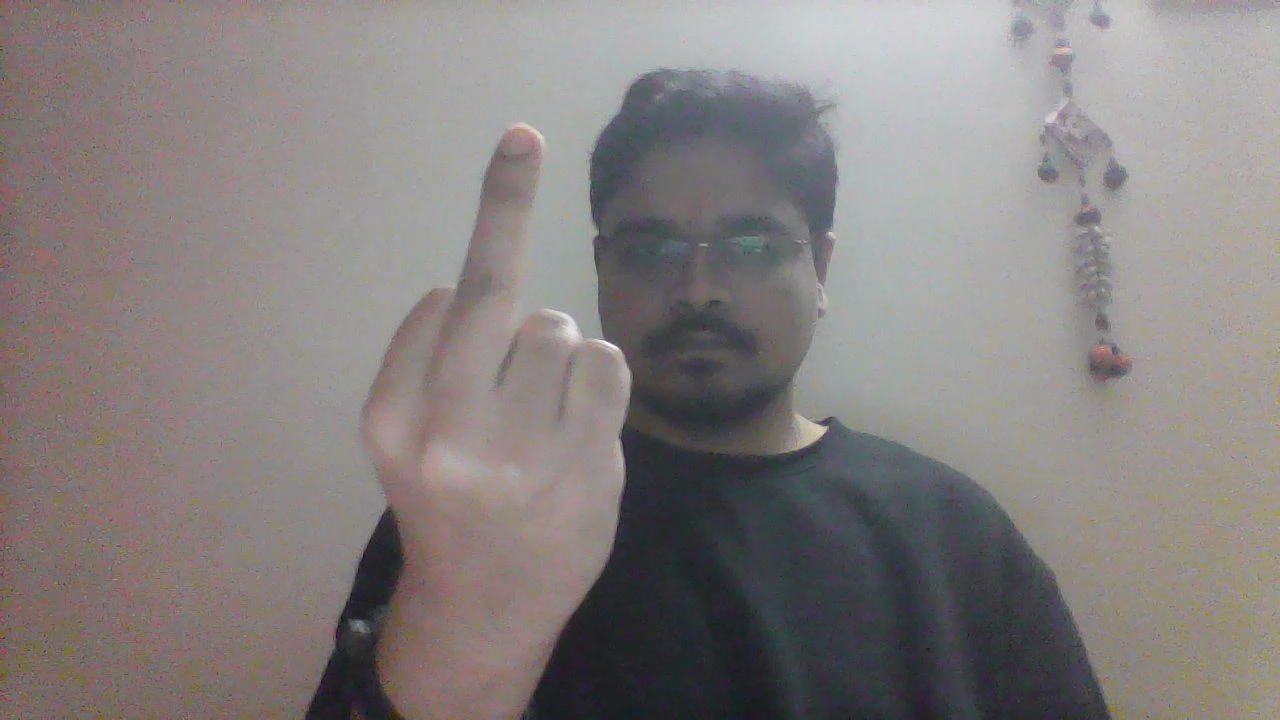Fuck Off: (357, 120, 636, 661)
